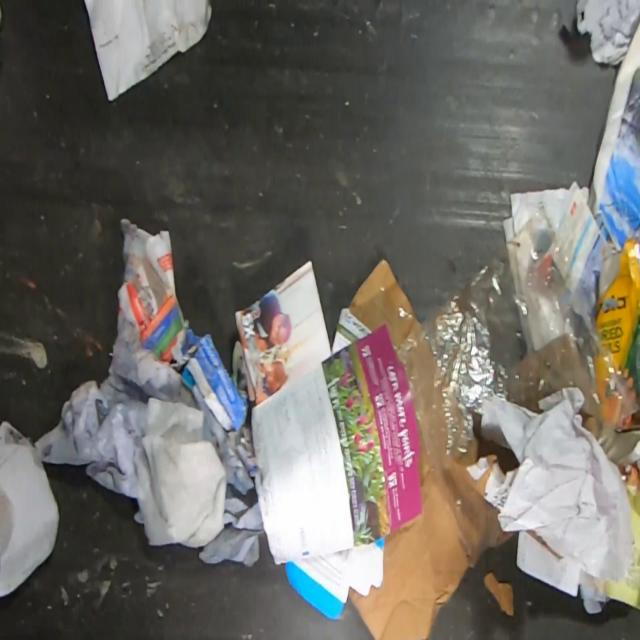cardboard: (116, 218, 256, 494), (349, 468, 470, 640), (284, 538, 386, 620), (596, 238, 640, 409), (348, 259, 416, 335), (482, 570, 514, 615)
soft_plastic: (375, 205, 640, 565), (34, 306, 200, 498), (198, 478, 265, 567)
